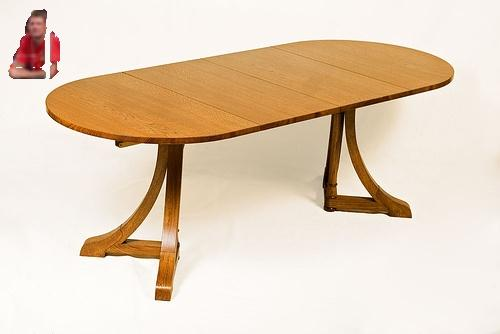tampered: (9, 10, 60, 79)
